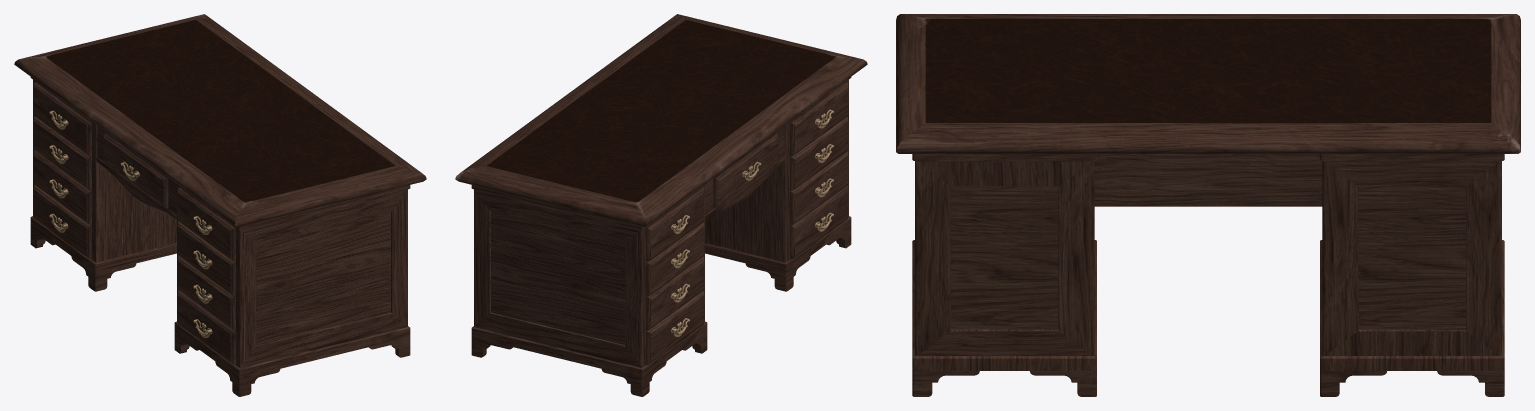
File: antique_desk.glb
The picture shows the model from 3 angles, left to right: view 1: azimuth 30°, elevation 25°; view 2: azimuth 150°, elevation 25°; view 3: azimuth 270°, elevation 25°; orthographic projection. The views are drawn at different scales.
Visible parts, largest first — view 1: Table_top, Right_drawer_body1, Left_drawer_body2, Drawer13, drawer, Drawer1, Drawer9, Drawer12, Drawer14, Drawer10, Drawer15, Drawer11 (+4 smaller); view 2: Table_top, Left_drawer_body2, Right_drawer_body1, Drawer1, Drawer13, drawer, Drawer12, Drawer11, Drawer14, Drawer15, Drawer9, Drawer10 (+4 smaller); view 3: Table_top, Right_drawer_body1, Left_drawer_body2, section, leg3, leg2, leg1, leg4.
Part boxes in pixels (x1,y1,x2,y2): Table_top: [14, 14, 426, 226]; Right_drawer_body1: [174, 182, 410, 378]; Left_drawer_body2: [30, 77, 176, 273]; Drawer13: [33, 82, 91, 156]; drawer: [103, 132, 168, 208]; Drawer1: [177, 187, 235, 261]; Drawer9: [177, 222, 235, 296]; Drawer12: [33, 151, 91, 225]; Drawer14: [33, 185, 91, 259]; Drawer10: [177, 256, 235, 330]; Drawer15: [33, 117, 91, 190]; Drawer11: [177, 291, 235, 364]; Table_top: [455, 14, 867, 226]; Left_drawer_body2: [471, 182, 707, 378]; Right_drawer_body1: [705, 77, 851, 273]; Drawer1: [790, 82, 848, 156]; Drawer13: [646, 187, 704, 261]; drawer: [713, 132, 778, 208]; Drawer12: [646, 256, 704, 330]; Drawer11: [790, 185, 848, 259]; Drawer14: [646, 291, 704, 364]; Drawer15: [646, 222, 704, 296]; Drawer9: [790, 117, 848, 190]; Drawer10: [790, 151, 848, 225]; Table_top: [896, 14, 1520, 153]; Right_drawer_body1: [912, 154, 1096, 370]; Left_drawer_body2: [1320, 154, 1504, 370]; section: [1094, 154, 1322, 206]; leg3: [912, 370, 979, 396]; leg2: [1437, 370, 1504, 396]; leg1: [1320, 370, 1386, 396]; leg4: [1030, 370, 1096, 396].
Size of the model in its own units: 1 by 0.9417 by 2.
5 materials, 5 textured.
